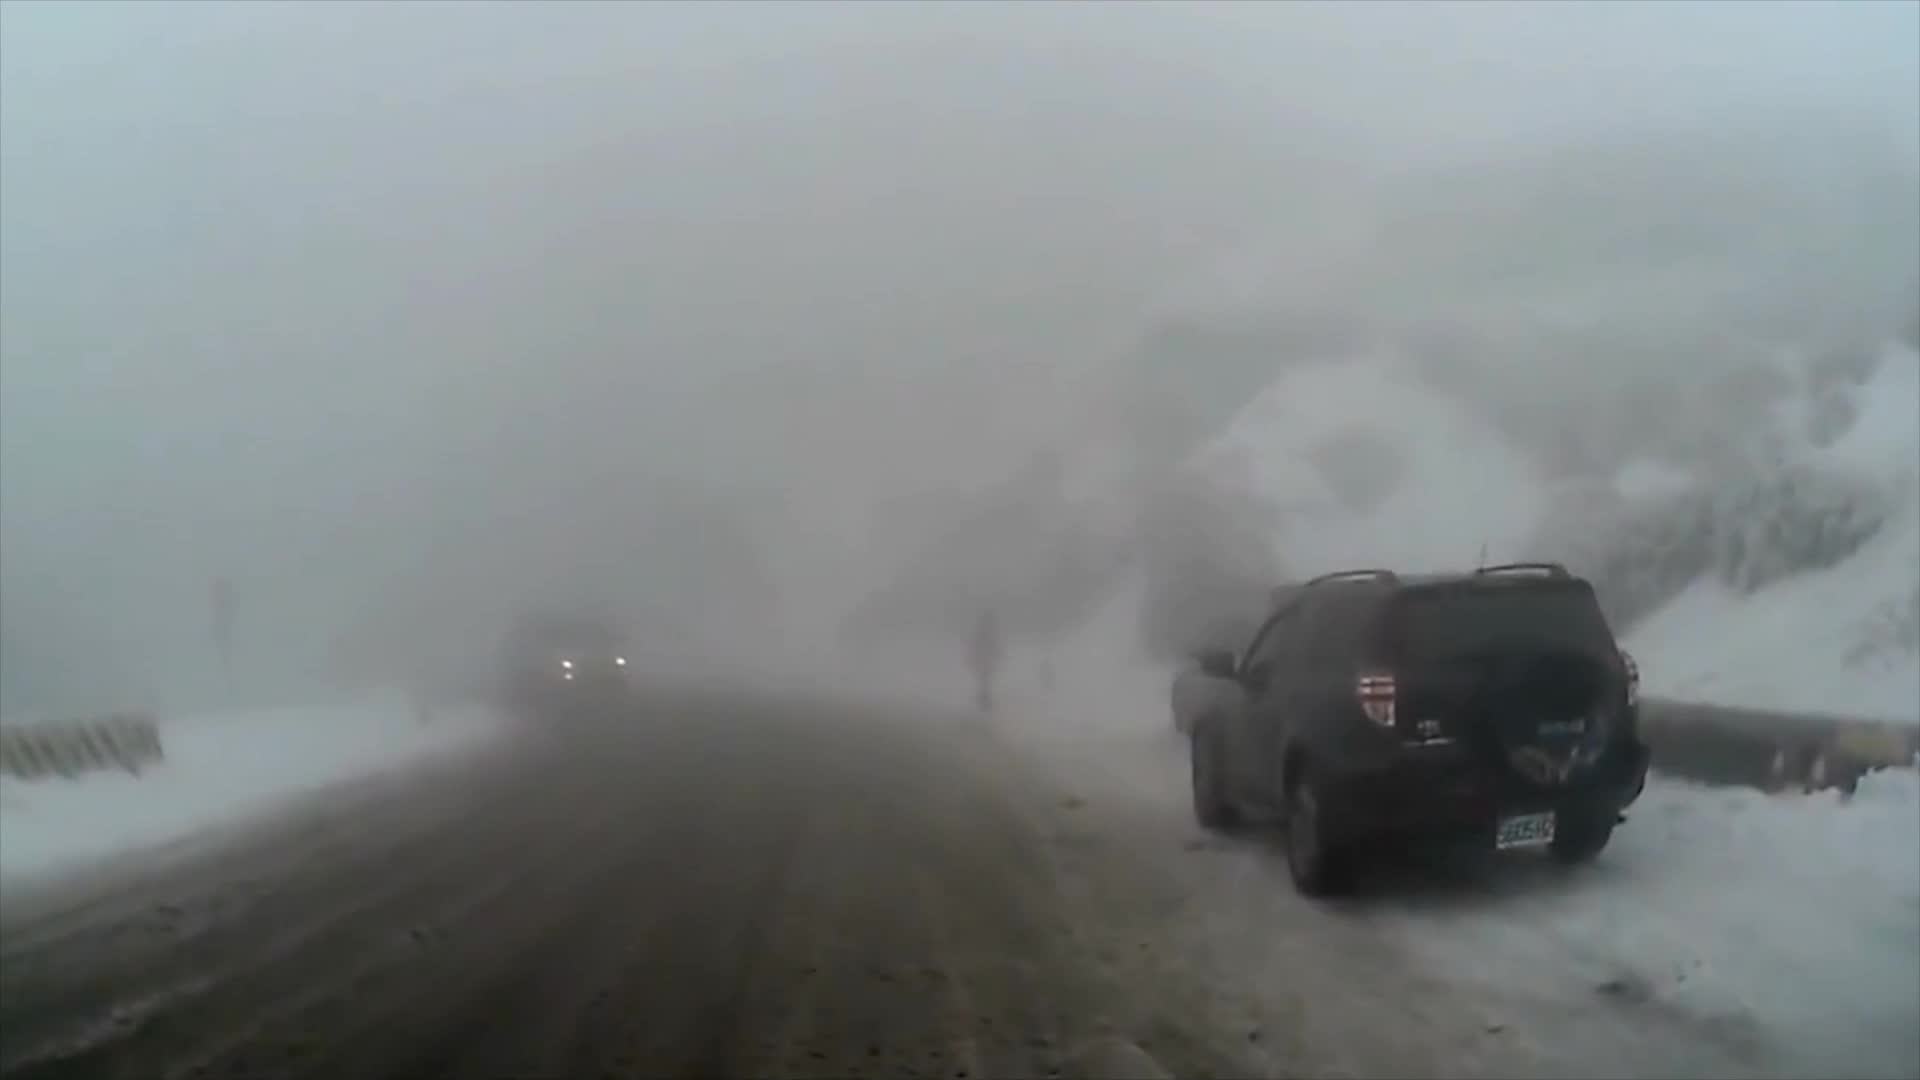vehicle: (1189, 553, 1648, 895), (501, 620, 640, 715)
